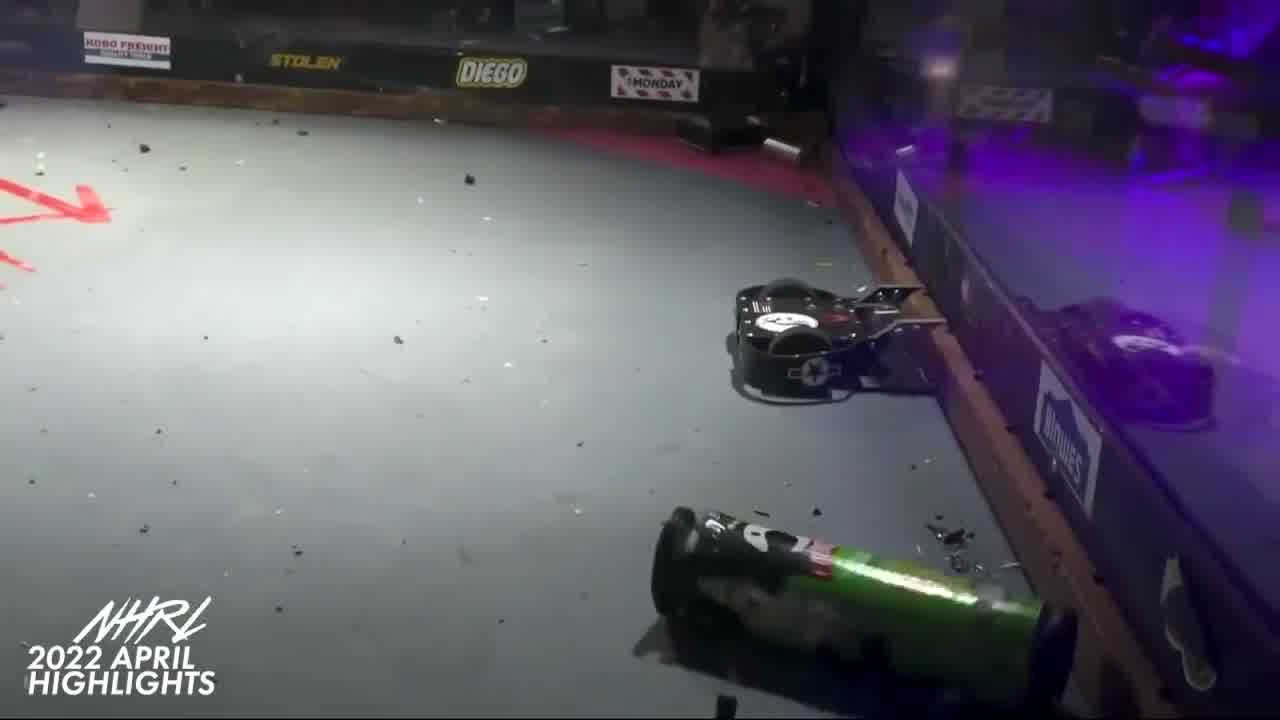combatbot: (652, 505, 1074, 713), (724, 280, 945, 406)
